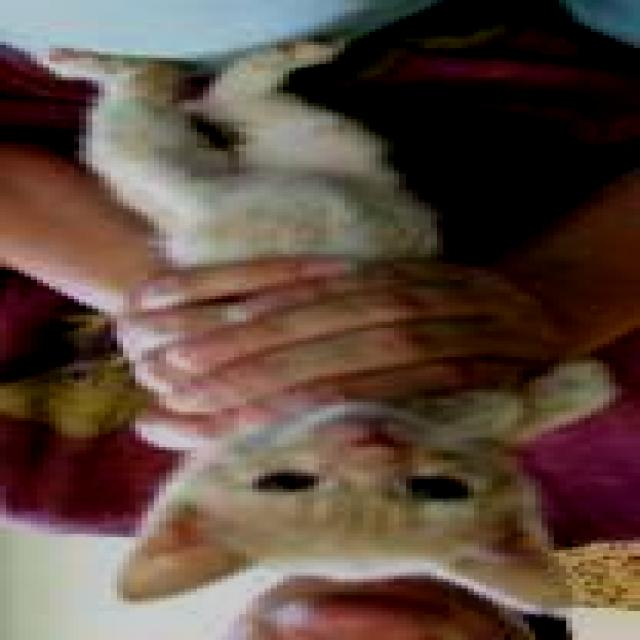Kucing: (0, 15, 640, 634)
